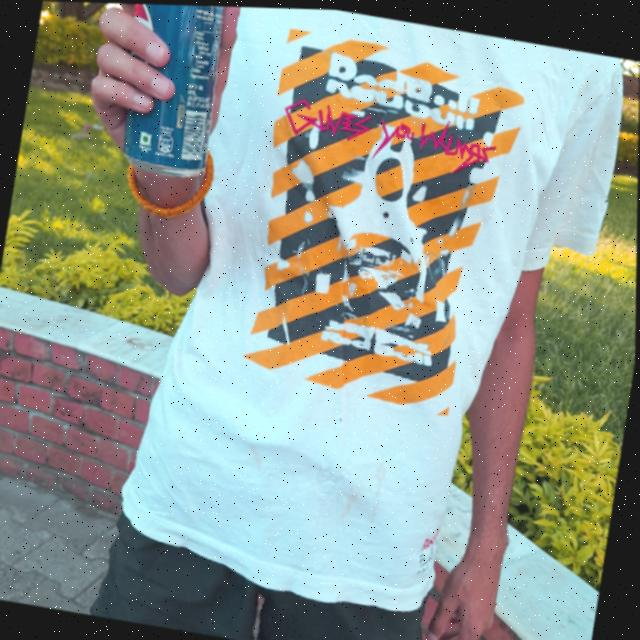Pepsi: (106, 3, 244, 183)
